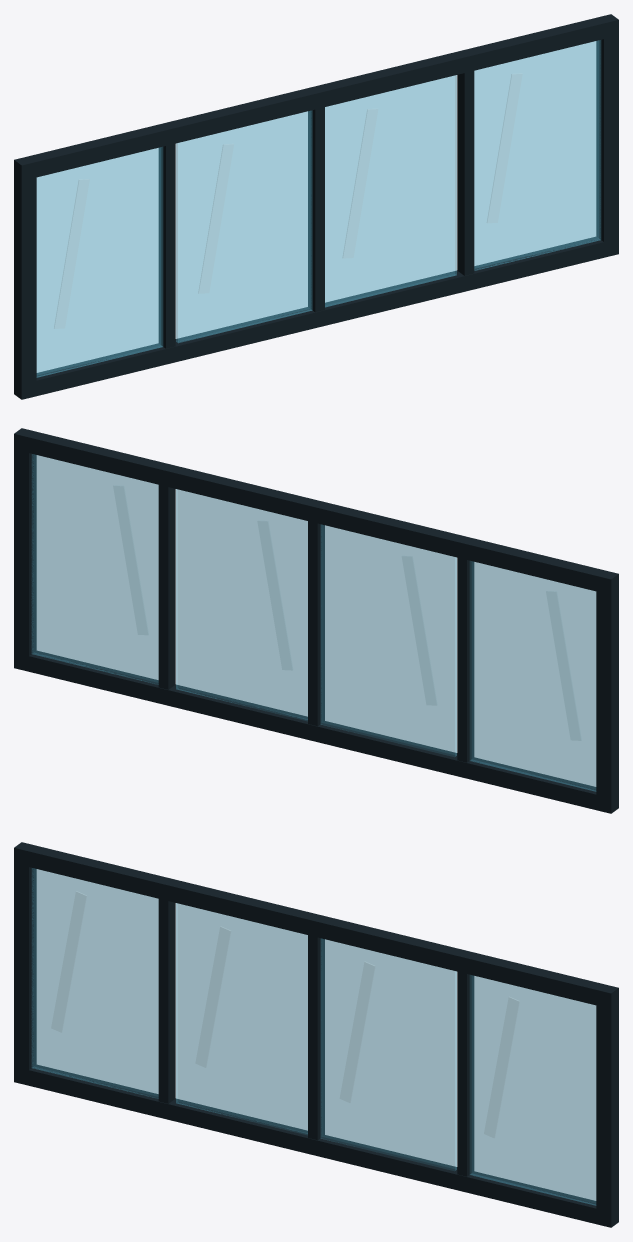
Rendered from window_4pan_1level.glb.
3 views of the same model, one above another, from view 1: azimuth 30°, elevation 25°; view 2: azimuth 150°, elevation 25°; view 3: azimuth 330°, elevation 25° (orthographic).
Visible parts, largest first — view 1: Glass_Pane_2, Glass_Pane_3, Glass_Pane_1, Glass_Pane_4, Frame_Top, Frame_Bottom, Frame_Left, Frame_Right, Mullion_3, Mullion_1, Mullion_2, Reflection_Stripe_4 (+3 smaller); view 2: Glass_Pane_2, Glass_Pane_3, Glass_Pane_1, Glass_Pane_4, Frame_Top, Frame_Bottom, Frame_Left, Frame_Right, Mullion_3, Mullion_1, Mullion_2, Reflection_Stripe_3 (+3 smaller); view 3: Glass_Pane_3, Glass_Pane_2, Glass_Pane_4, Glass_Pane_1, Frame_Top, Frame_Bottom, Frame_Right, Frame_Left, Mullion_1, Mullion_3, Mullion_2, Reflection_Stripe_3 (+3 smaller).
Part boxes in pixels (x1,y1,x2,y2): Glass_Pane_2: [176, 110, 312, 342]; Glass_Pane_3: [325, 75, 456, 307]; Glass_Pane_1: [36, 147, 162, 377]; Glass_Pane_4: [474, 40, 600, 270]; Frame_Top: [14, 14, 618, 180]; Frame_Bottom: [14, 236, 618, 399]; Frame_Left: [14, 175, 36, 383]; Frame_Right: [596, 35, 618, 241]; Mullion_3: [457, 71, 474, 275]; Mullion_1: [158, 143, 175, 348]; Mullion_2: [308, 107, 324, 312]; Reflection_Stripe_4: [487, 74, 521, 222]; Glass_Pane_2: [320, 524, 456, 756]; Glass_Pane_3: [176, 489, 307, 720]; Glass_Pane_1: [470, 561, 596, 791]; Glass_Pane_4: [31, 454, 158, 684]; Frame_Top: [14, 428, 618, 594]; Frame_Bottom: [14, 650, 618, 813]; Frame_Left: [596, 589, 618, 797]; Frame_Right: [14, 449, 36, 655]; Mullion_3: [158, 485, 175, 689]; Mullion_1: [457, 557, 474, 762]; Mullion_2: [308, 521, 324, 726]; Reflection_Stripe_3: [258, 521, 291, 669]; Glass_Pane_3: [320, 938, 456, 1170]; Glass_Pane_2: [176, 903, 307, 1134]; Glass_Pane_4: [470, 975, 596, 1205]; Glass_Pane_1: [31, 868, 158, 1098]; Frame_Top: [14, 842, 618, 1008]; Frame_Bottom: [14, 1064, 618, 1227]; Frame_Right: [596, 1003, 618, 1211]; Frame_Left: [14, 863, 36, 1069]; Mullion_1: [158, 899, 175, 1103]; Mullion_3: [457, 971, 474, 1176]; Mullion_2: [308, 935, 324, 1140]; Reflection_Stripe_3: [340, 962, 374, 1102].
Bounding box in the file's own units: 4 × 1.5 × 0.09.
